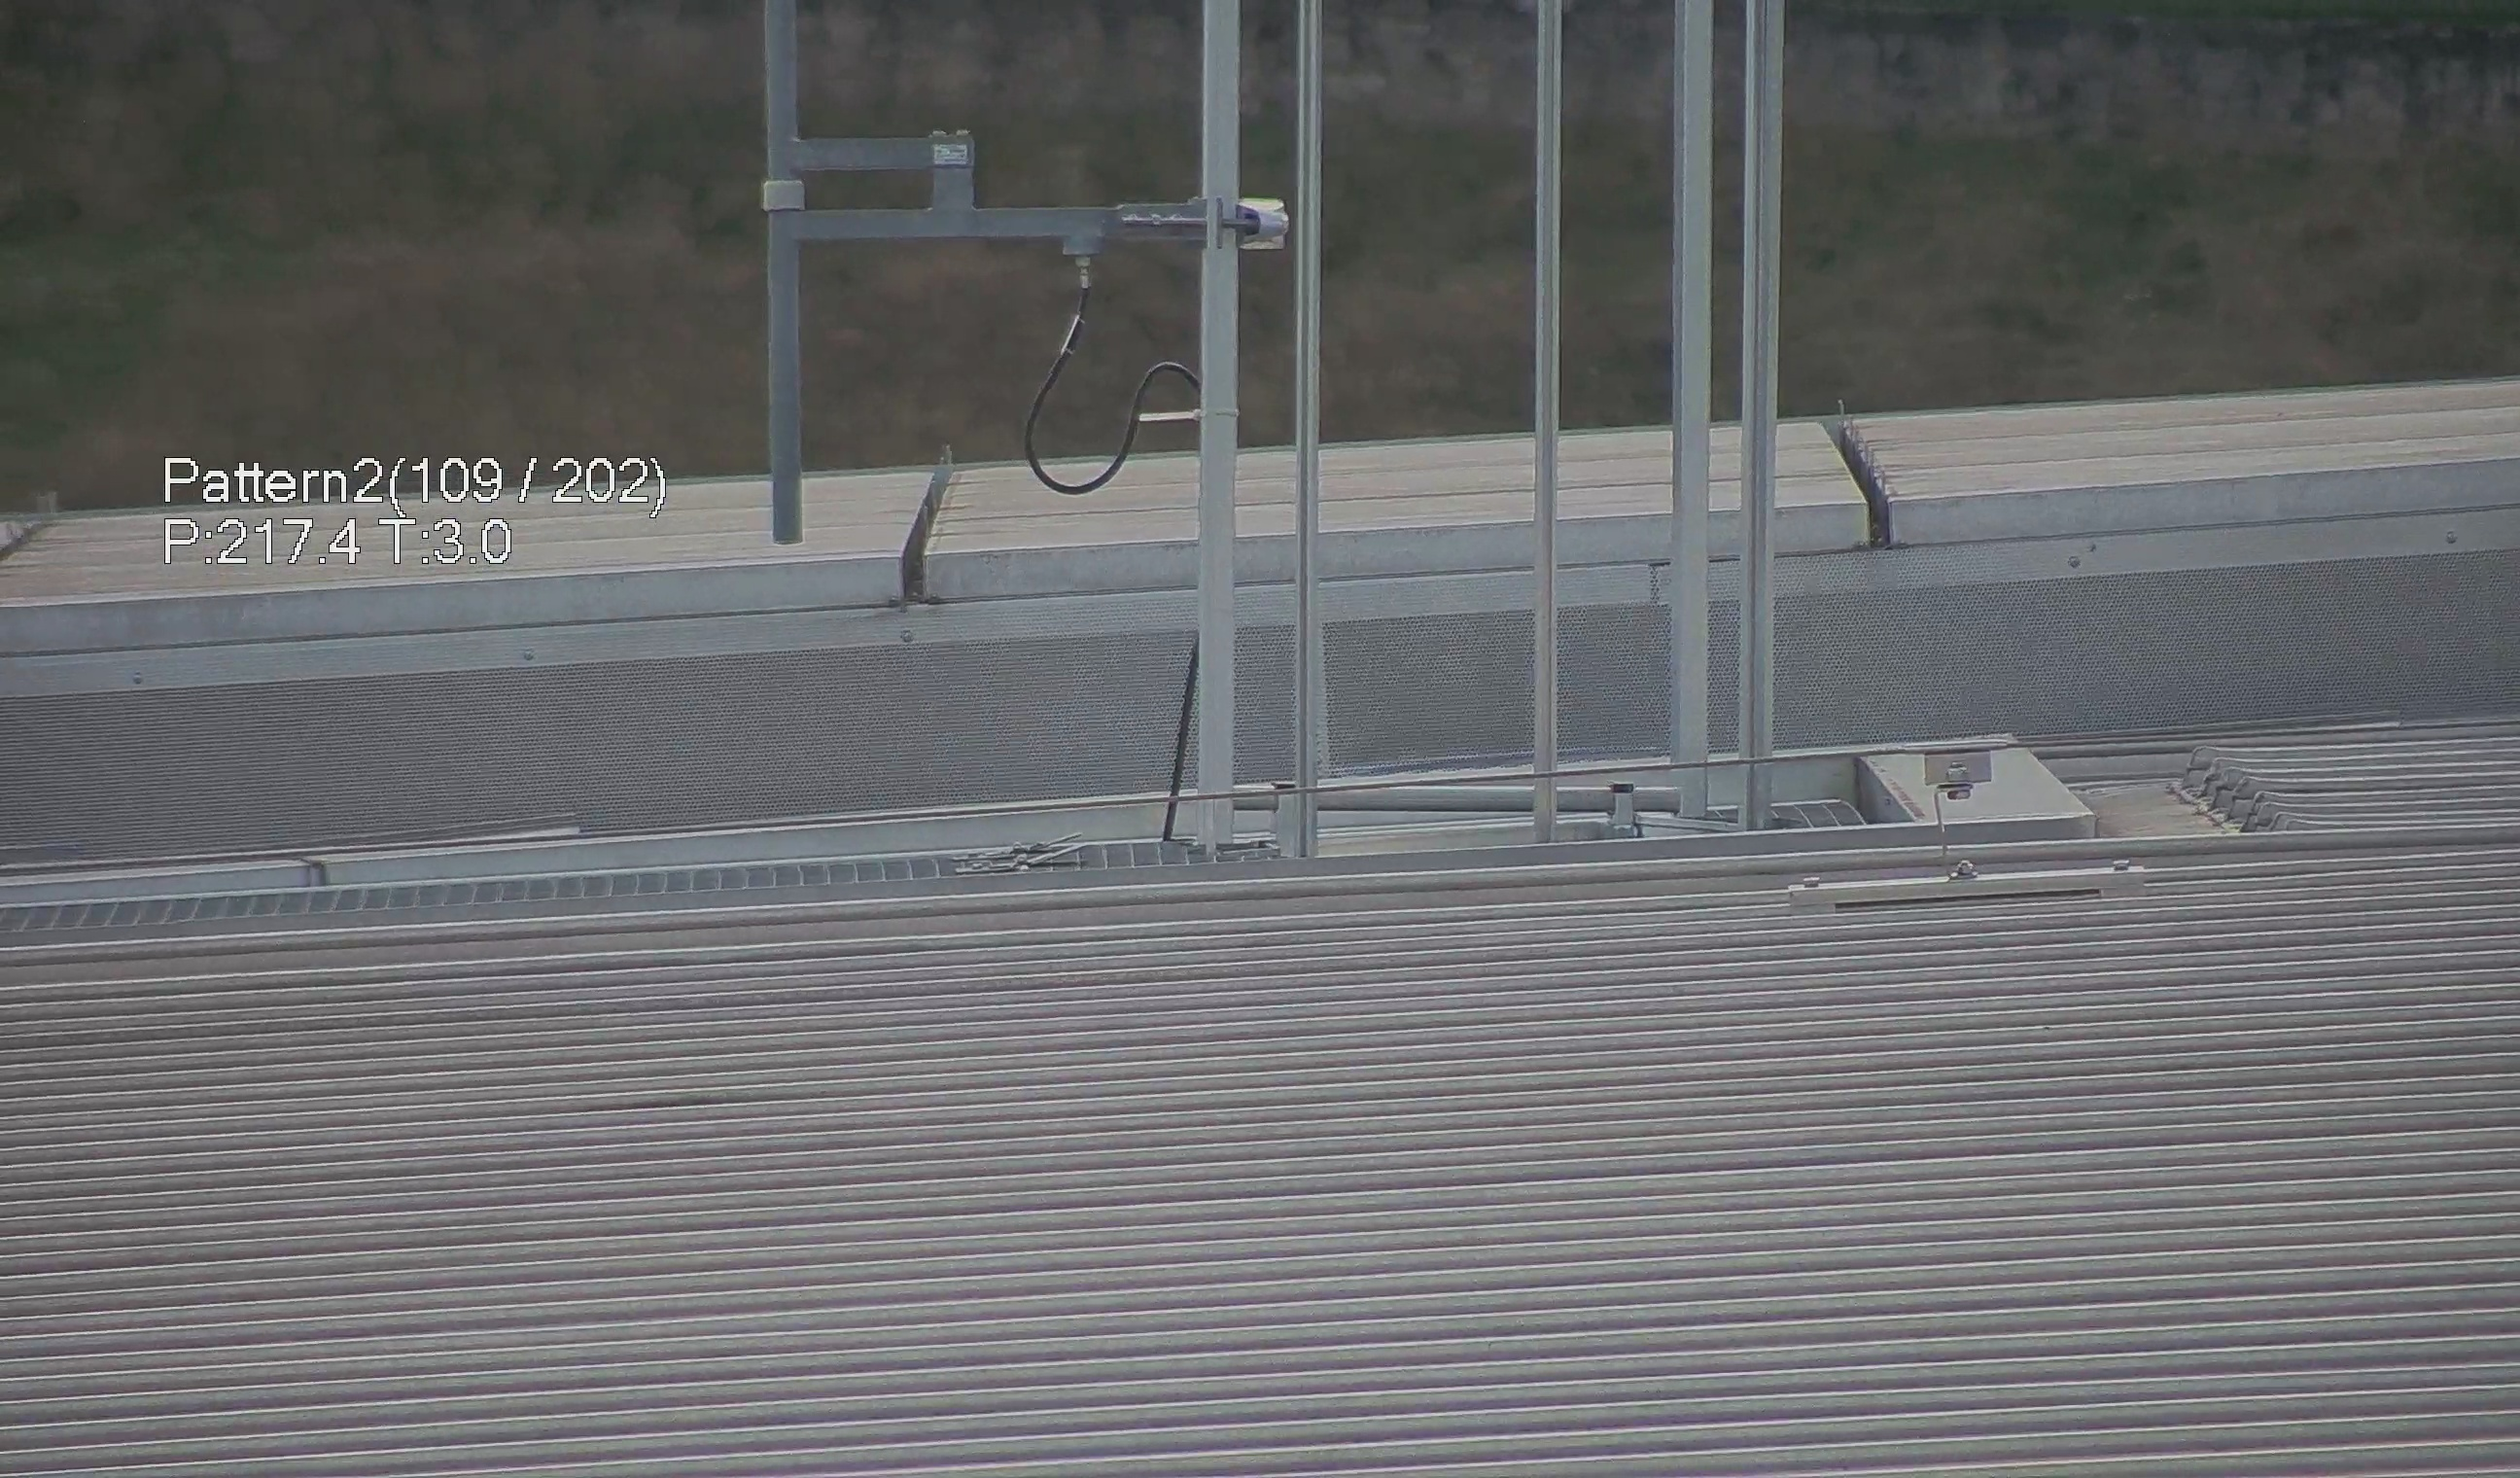Other: (1813, 396, 1917, 549)
